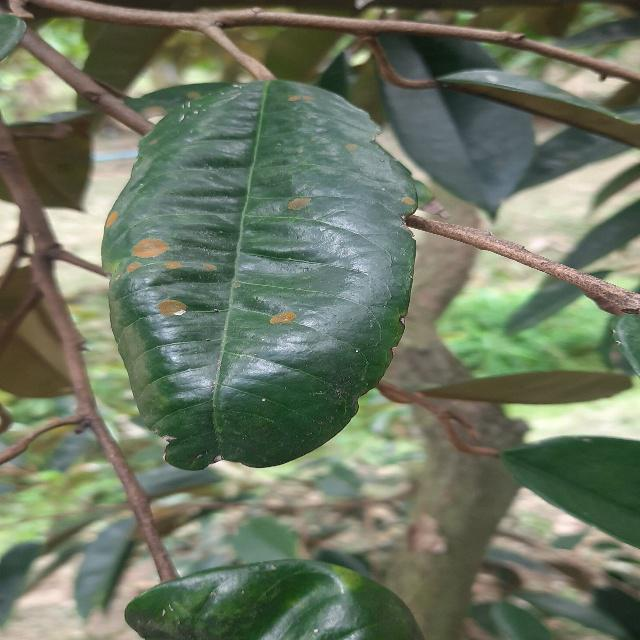Algal Leaf Spot: (99, 73, 419, 468)
